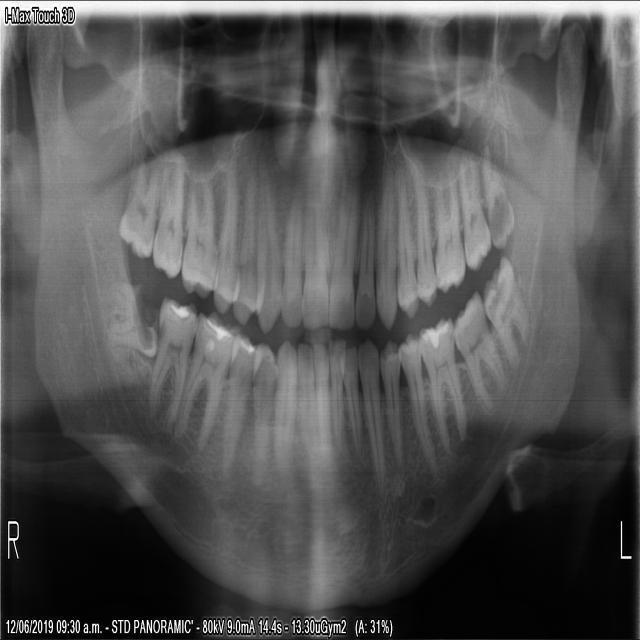LCD: (355, 334, 385, 496)
LCU: (374, 156, 396, 331)
LID: (337, 340, 360, 455), (327, 335, 344, 454)
LIU: (326, 174, 358, 331), (353, 190, 375, 331)
LMD: (416, 311, 465, 456), (450, 289, 502, 409), (480, 251, 526, 373)
LMU: (432, 164, 465, 294), (459, 151, 490, 273), (481, 161, 515, 249)
LPMD: (396, 330, 437, 480), (378, 338, 401, 469)
LPMU: (394, 162, 418, 317), (413, 170, 437, 308)
RCD: (272, 336, 296, 485)
RCU: (253, 156, 281, 337)
RID: (295, 339, 313, 468), (312, 339, 329, 470)
RIU: (299, 183, 328, 330), (278, 186, 301, 327)
RMD: (172, 307, 241, 453), (146, 294, 197, 429)
RMU: (179, 152, 216, 301), (114, 141, 160, 260), (150, 144, 185, 282)
RPMD: (220, 329, 262, 470), (250, 341, 278, 480)
RPMU: (230, 154, 264, 328), (211, 153, 240, 316)
